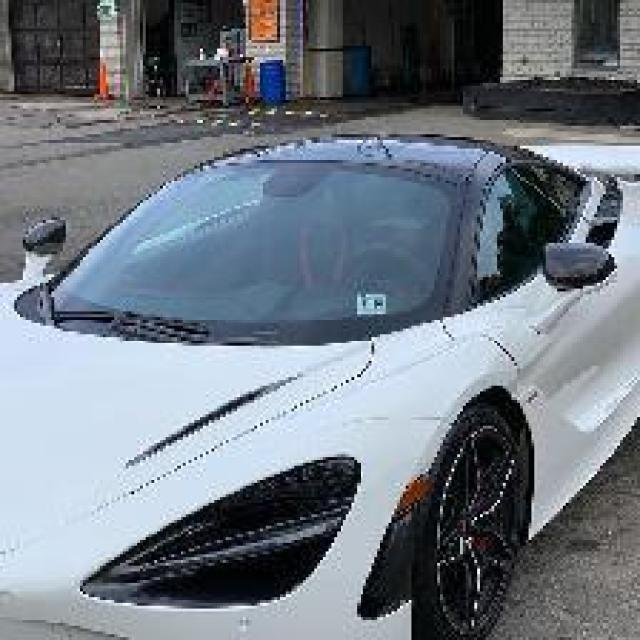damaged: (126, 377, 303, 477)
